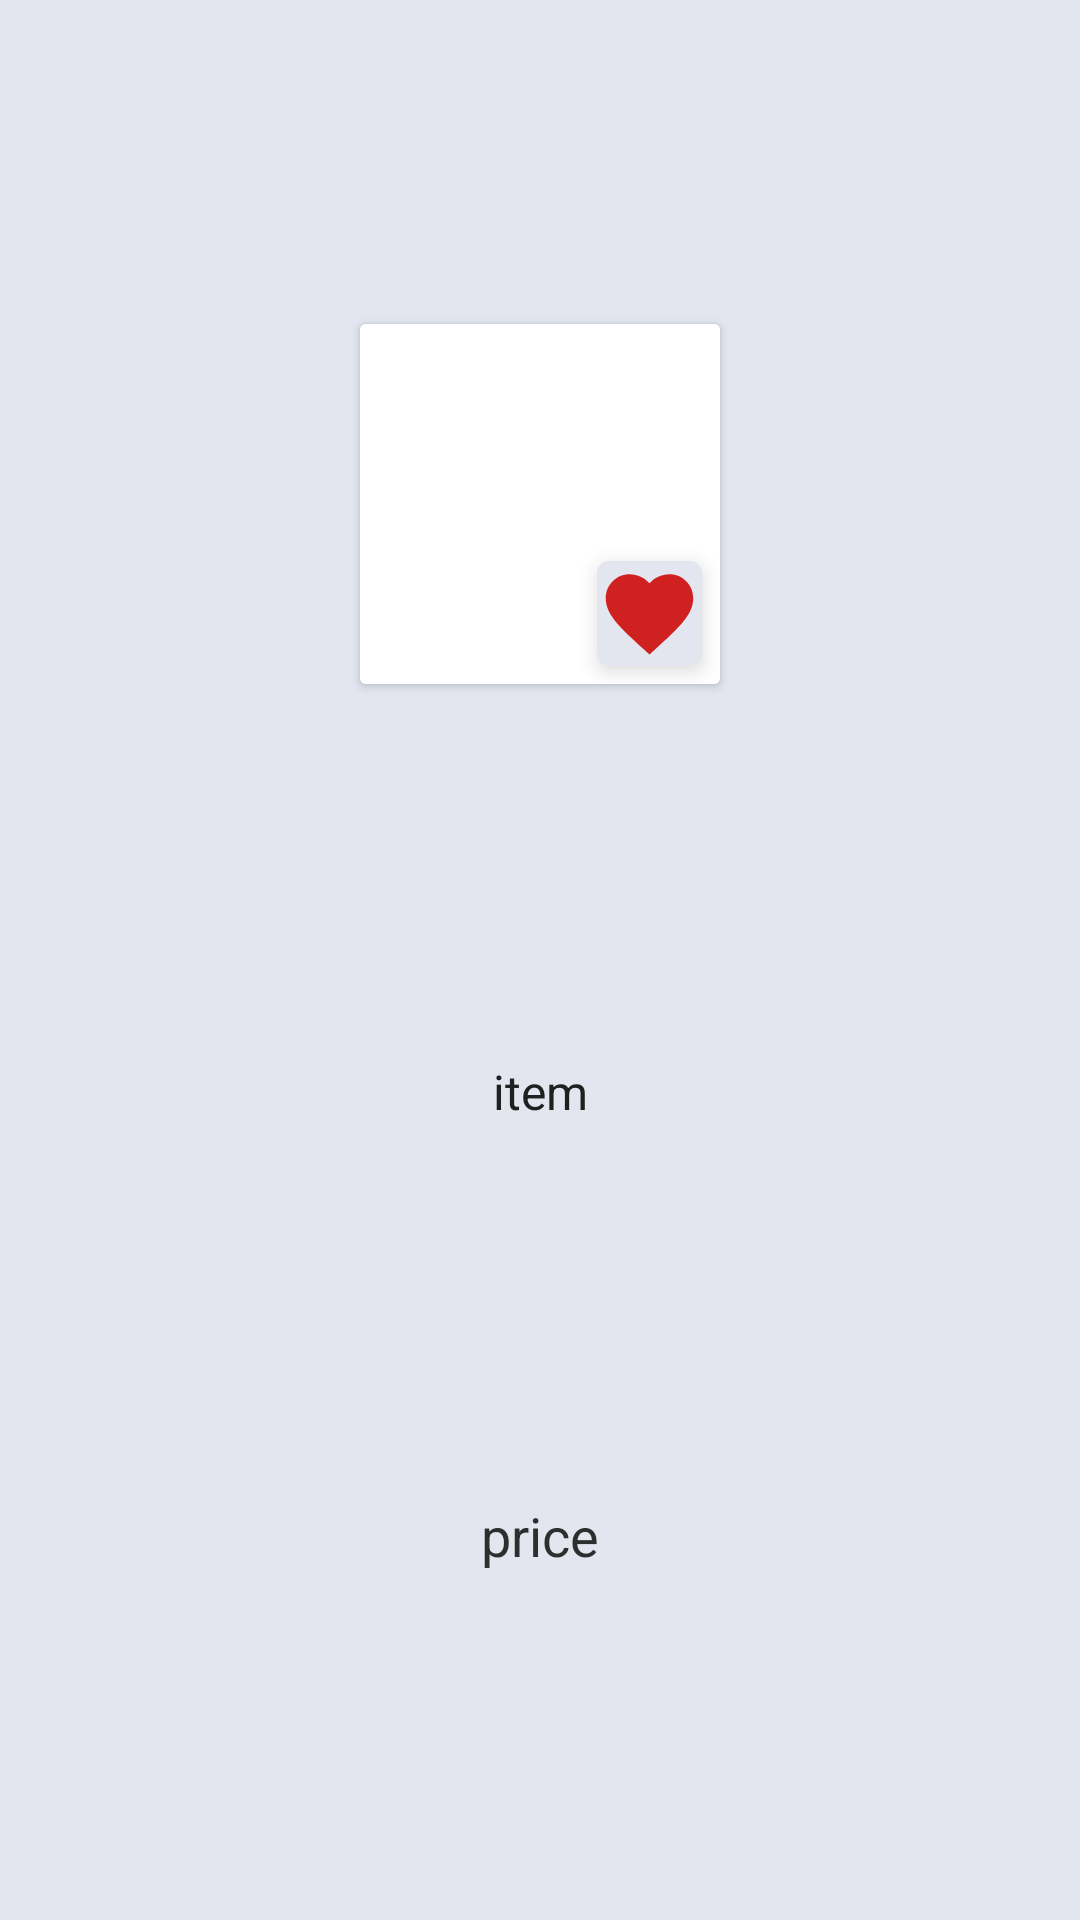

Icon bounding boxes for this 1080*1920 phone screenshot, format box(x1, y1, x2, y2):
favorite: box(605, 574, 694, 655)
